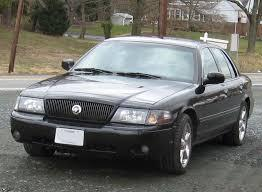Mercury: (69, 103, 86, 118)
